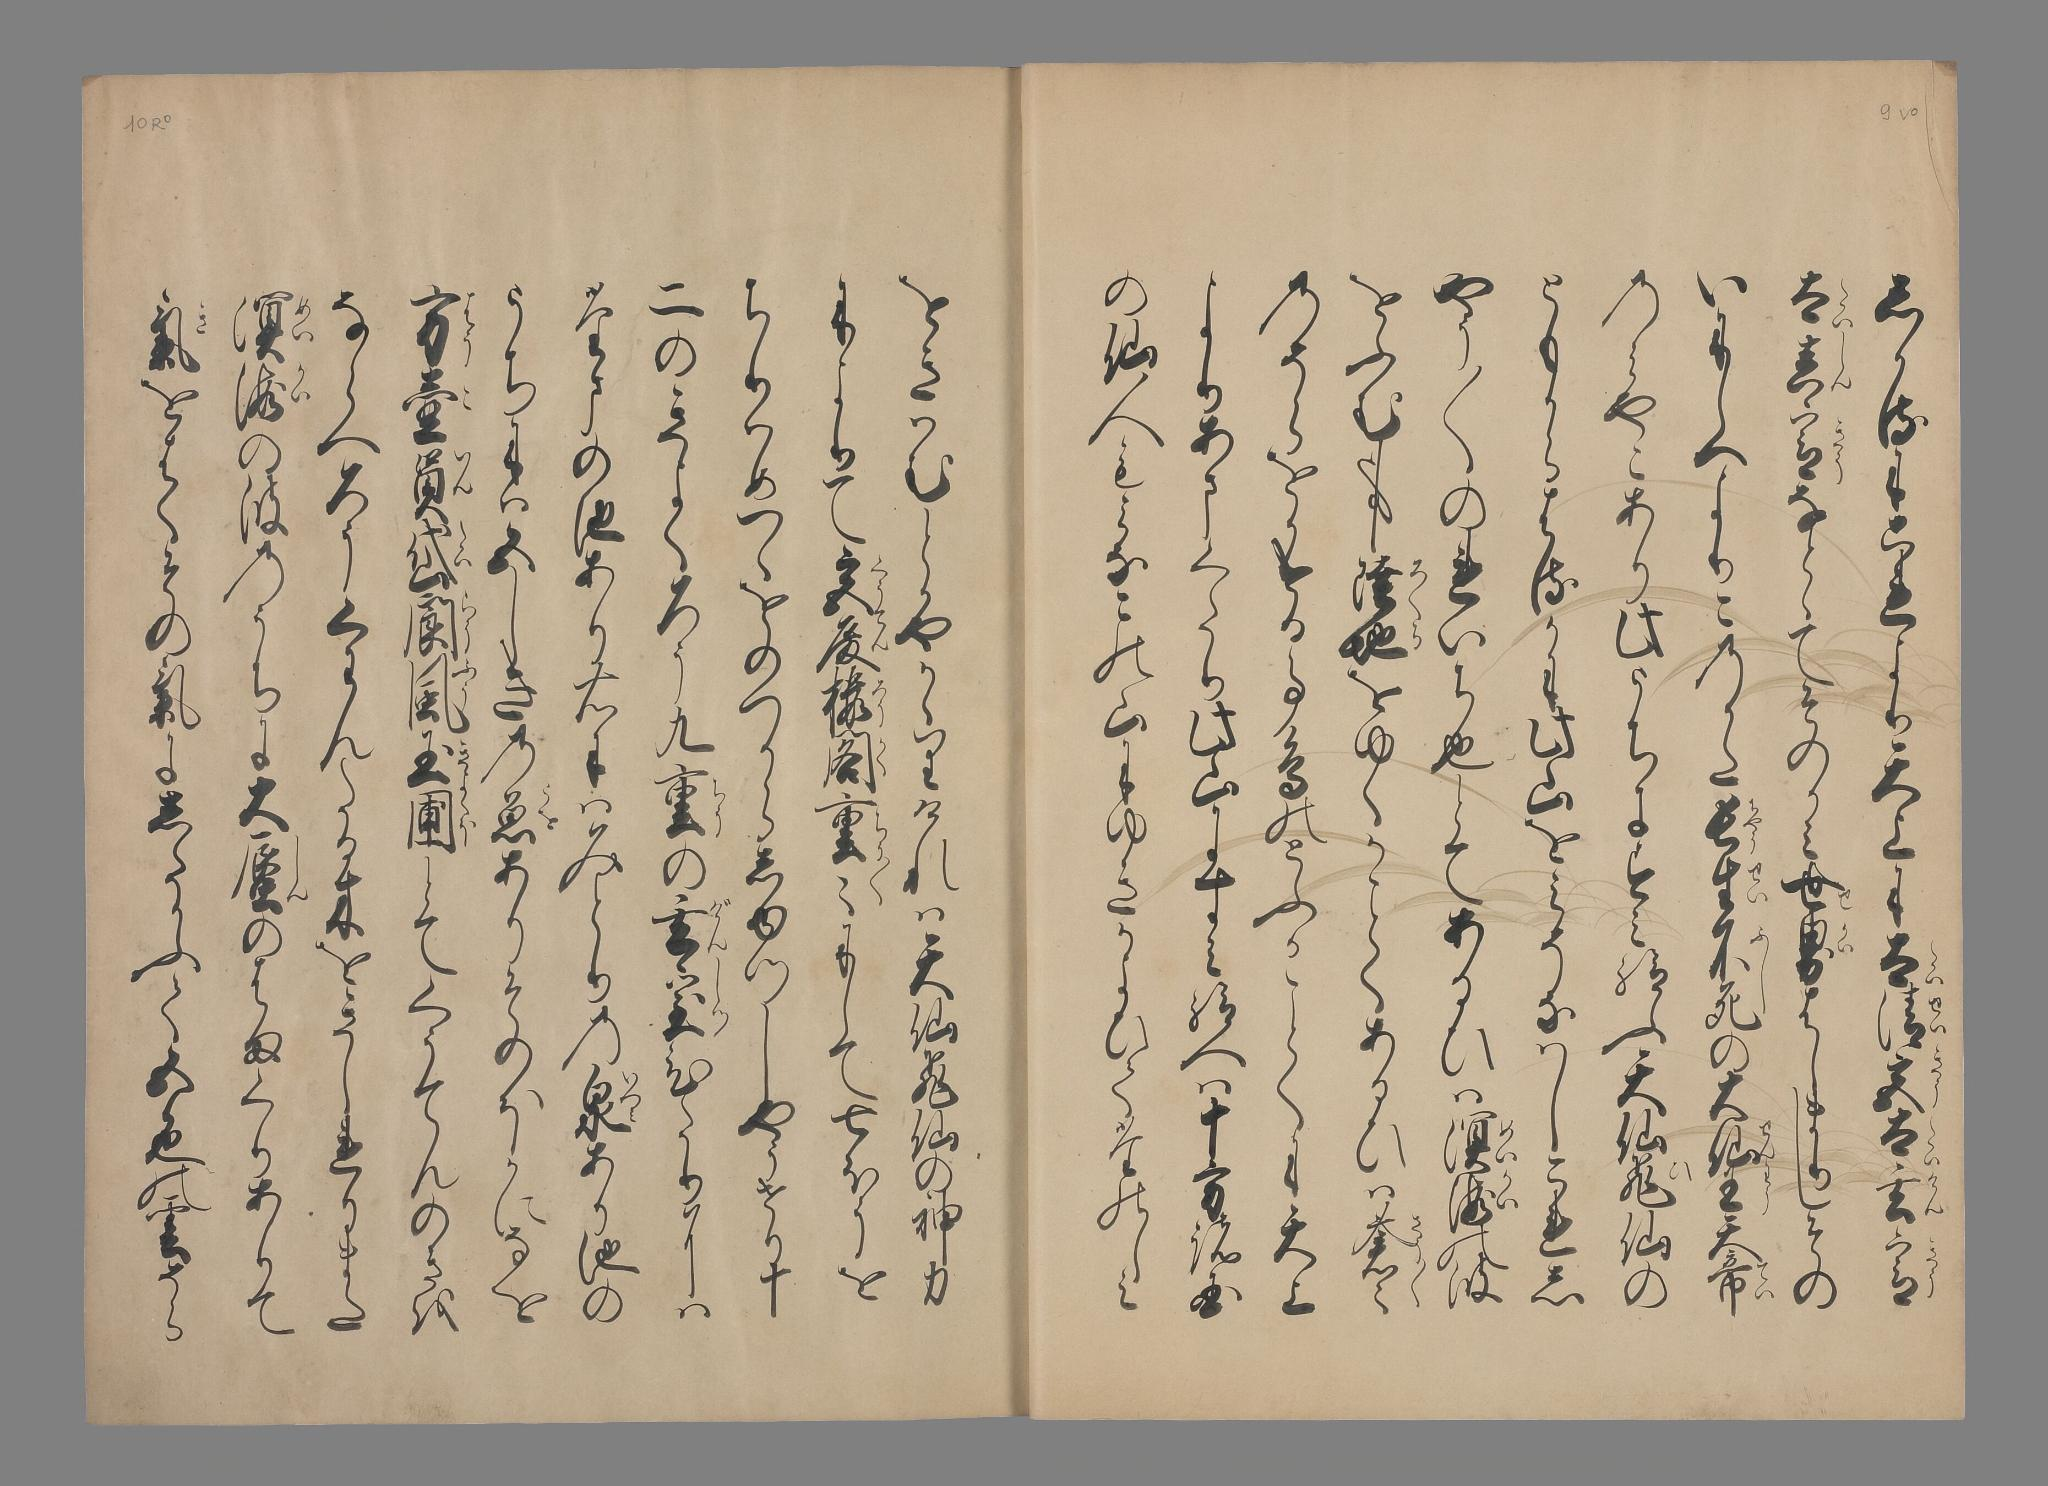MainZone-Character: (563, 1062, 647, 1144), (652, 958, 733, 1043), (404, 281, 482, 369), (1875, 1225, 1949, 1311), (140, 289, 211, 378), (229, 836, 310, 914), (650, 893, 736, 963), (1708, 922, 1776, 1009), (650, 763, 723, 844), (224, 294, 315, 358), (1862, 1051, 1949, 1116), (405, 370, 479, 447), (1441, 1168, 1523, 1235), (405, 661, 479, 736), (404, 520, 477, 594), (1781, 917, 1859, 987), (1347, 1205, 1431, 1268), (1784, 334, 1857, 407), (1698, 1254, 1779, 1319), (1436, 1109, 1523, 1170), (227, 361, 315, 421), (409, 447, 480, 520), (404, 787, 479, 857), (817, 798, 897, 863), (1337, 612, 1428, 668), (482, 788, 563, 850), (819, 548, 892, 617), (814, 671, 890, 736), (1345, 556, 1428, 615), (404, 593, 479, 656), (816, 734, 892, 795), (1619, 1154, 1697, 1213), (1787, 408, 1849, 482), (1873, 992, 1953, 1047), (1868, 1113, 1948, 1168), (813, 618, 892, 674), (1789, 269, 1857, 332), (1779, 861, 1857, 917), (827, 863, 900, 922), (1875, 1171, 1951, 1227), (1706, 1163, 1778, 1221), (1876, 930, 1945, 989), (1698, 1116, 1776, 1165), (401, 737, 475, 788), (1361, 1267, 1433, 1319), (1703, 795, 1765, 850), (1709, 858, 1768, 915)
MainZone-Ruby: (448, 660, 482, 714), (286, 839, 312, 909), (1921, 1236, 1946, 1303), (1751, 922, 1771, 998), (709, 965, 730, 1036), (867, 860, 895, 911), (709, 898, 733, 955), (460, 289, 479, 361), (619, 1071, 644, 1124), (448, 521, 474, 572), (452, 445, 475, 499), (456, 788, 477, 850), (288, 299, 316, 343), (1919, 1117, 1943, 1170), (706, 772, 725, 838), (870, 555, 889, 618), (1830, 337, 1852, 391), (1493, 1117, 1520, 1162), (1491, 1170, 1519, 1214), (1749, 1260, 1778, 1302), (458, 593, 477, 655), (1921, 1171, 1946, 1217), (1829, 415, 1848, 475), (1922, 939, 1946, 985), (1407, 558, 1428, 610), (285, 366, 312, 405), (1832, 277, 1852, 327), (868, 807, 889, 857), (1746, 861, 1768, 906), (1754, 1165, 1775, 1213), (537, 791, 561, 833), (455, 739, 475, 787), (1404, 1213, 1425, 1259), (1407, 1270, 1429, 1311), (1743, 796, 1760, 849), (870, 677, 887, 729), (189, 299, 213, 337), (1835, 923, 1857, 962), (1930, 1052, 1945, 1106), (1666, 1159, 1695, 1186), (1755, 1119, 1775, 1159), (868, 623, 892, 655), (1927, 993, 1946, 1031), (1407, 618, 1426, 653), (875, 739, 890, 776), (458, 383, 475, 415), (1837, 887, 1856, 912)
